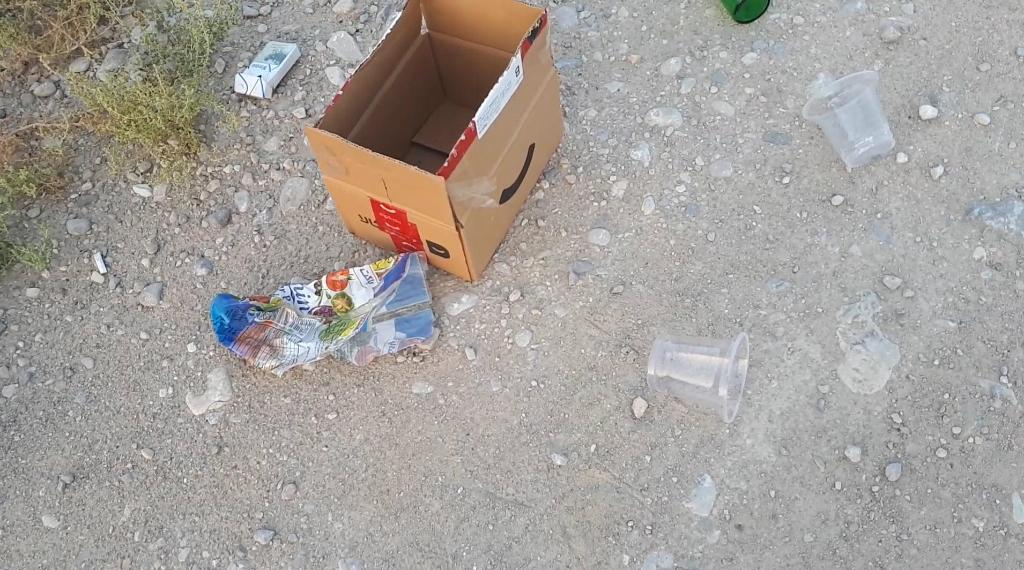garbage: (720, 0, 771, 24)
